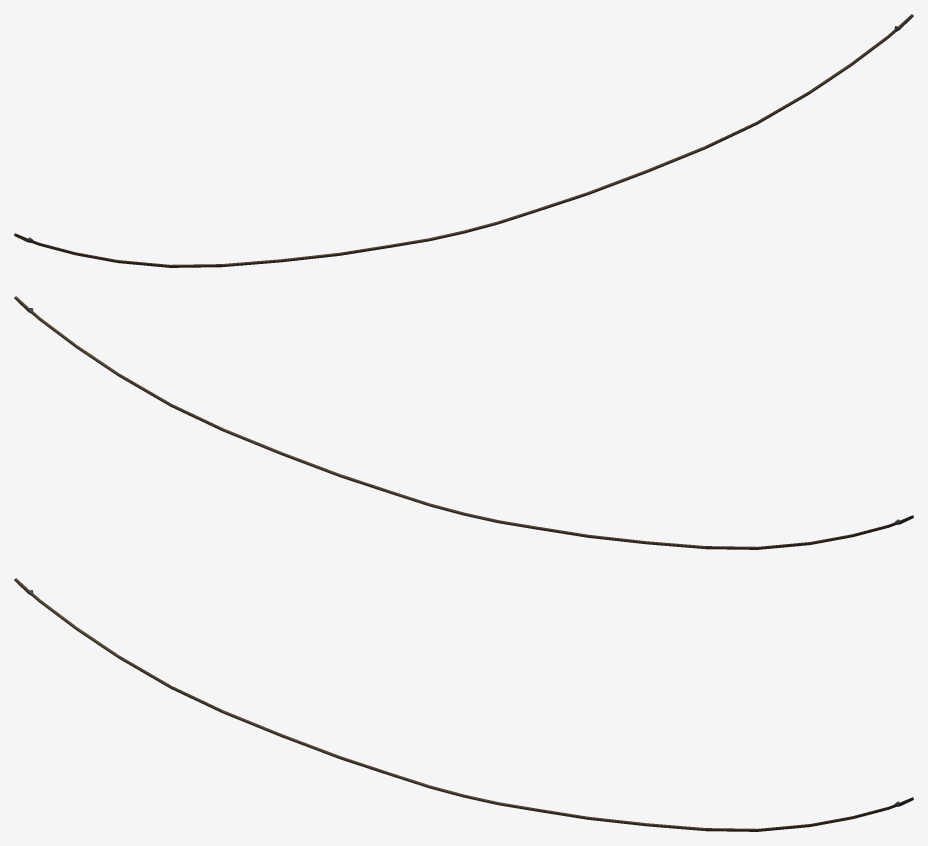
The model's file is ZLP_Build_F_24.FBX.
3 views of the same model, one above another, from view 1: azimuth 30°, elevation 25°; view 2: azimuth 150°, elevation 25°; view 3: azimuth 330°, elevation 25° (orthographic).
Parts seen in each view (by area): view 1: ZLP_Build_F_24; view 2: ZLP_Build_F_24; view 3: ZLP_Build_F_24.
Boxes of the visible parts, x1,y1,x2,y2 form: ZLP_Build_F_24: [14, 14, 913, 267]; ZLP_Build_F_24: [14, 296, 913, 549]; ZLP_Build_F_24: [14, 578, 913, 831].
Size of the model in its own units: 1225 by 143 by 7.66.
